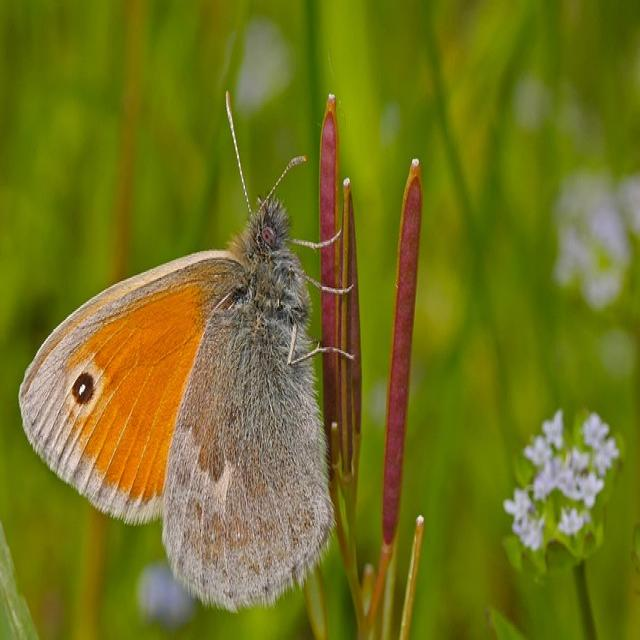butterfly: (18, 197, 336, 613)
